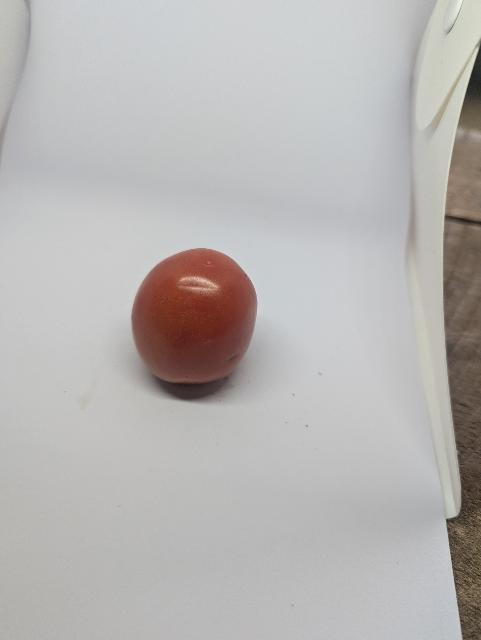red: (126, 241, 276, 416)
